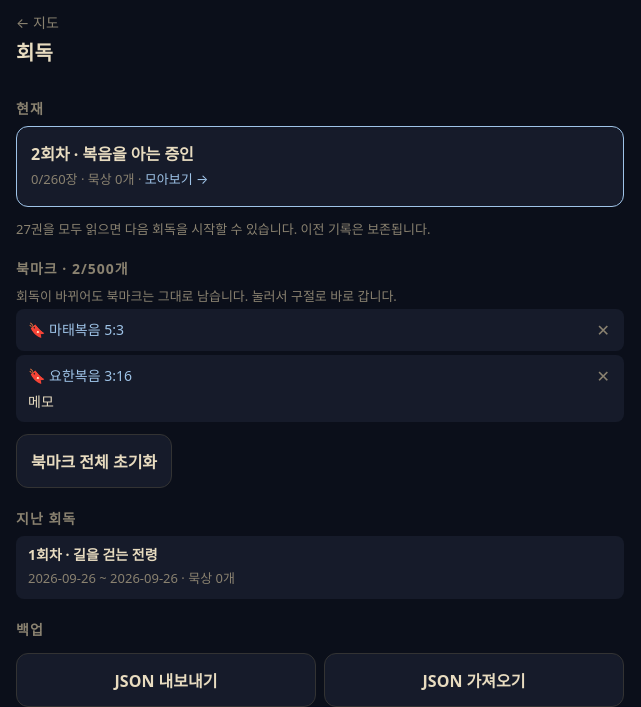
Test: bookmarks survive next cycle, list links with ?v=, delete and clear all
Expected: the heading "북마크 · 2/500개" is shown, [16,259,129,278]
Expected: the text "메모" is shown, [28,392,54,411]
Click the button named "마태복음 5:3 북마크 삭제": [603, 330] box [595,319,612,341]
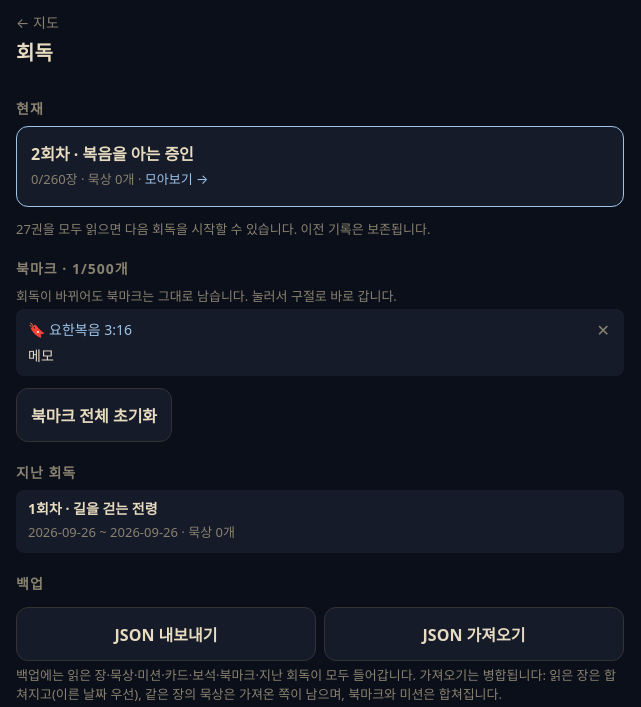
Click the button "북마크 전체 초기화": [94, 415] box [16,388,172,442]
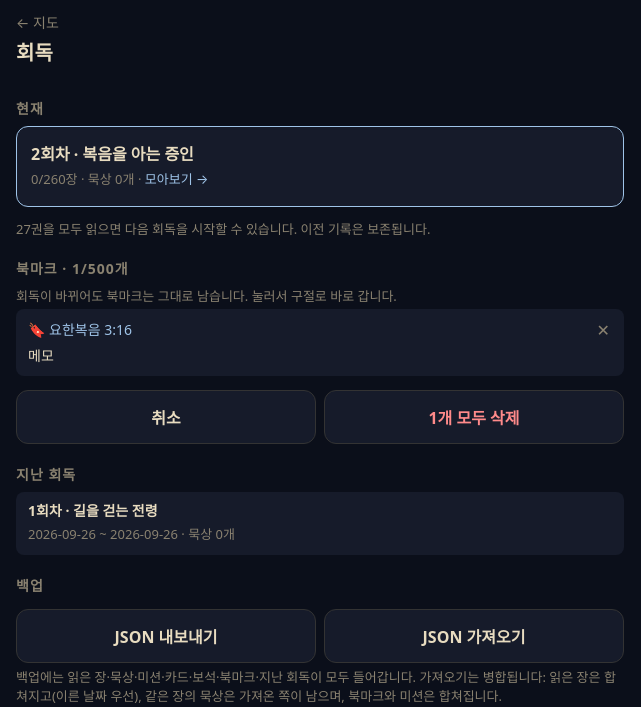
Click the button "1개 모두 삭제": [474, 417] box [324,390,624,444]
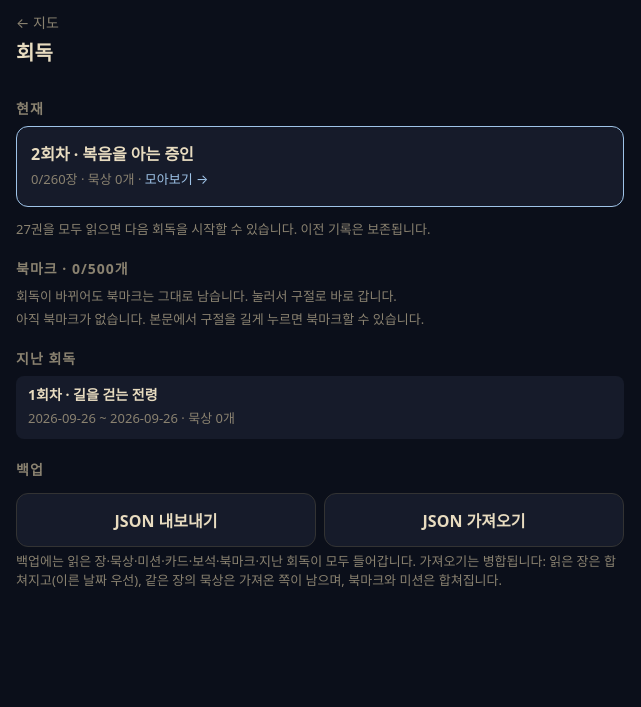
Expected: the text "아직 북마크가 없습니다. 본문에서 구절을 길게 누르면 북마크할 수 있습니다." is shown, [16,310,424,328]
